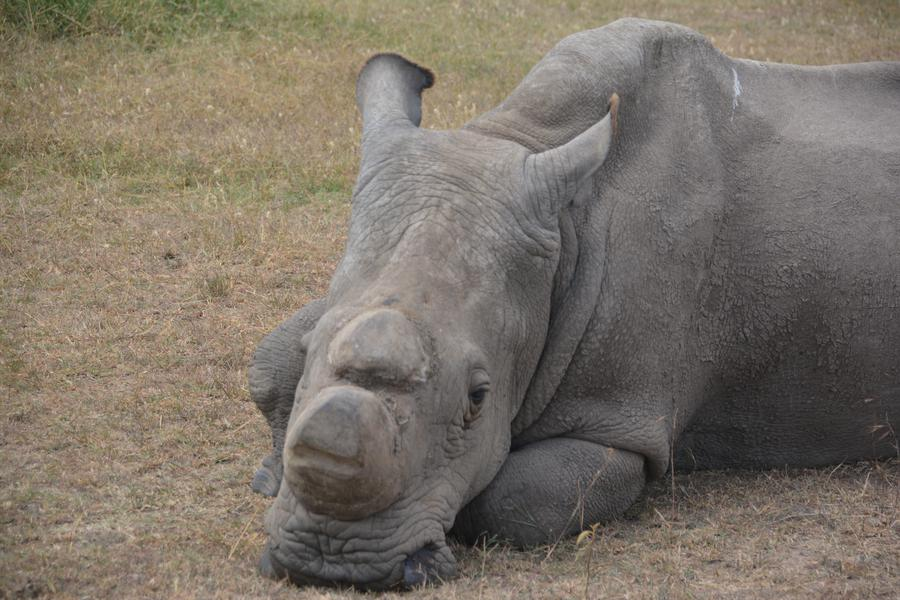rhino: (249, 36, 877, 567)
